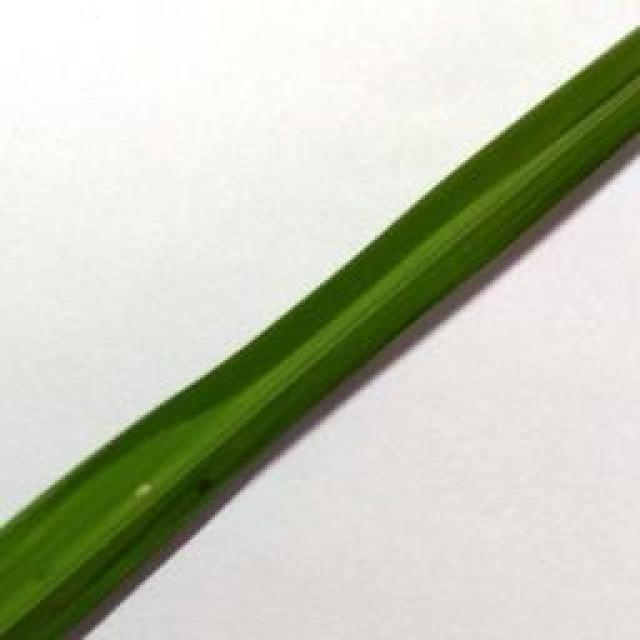Brown_Spot: (196, 477, 219, 502)
